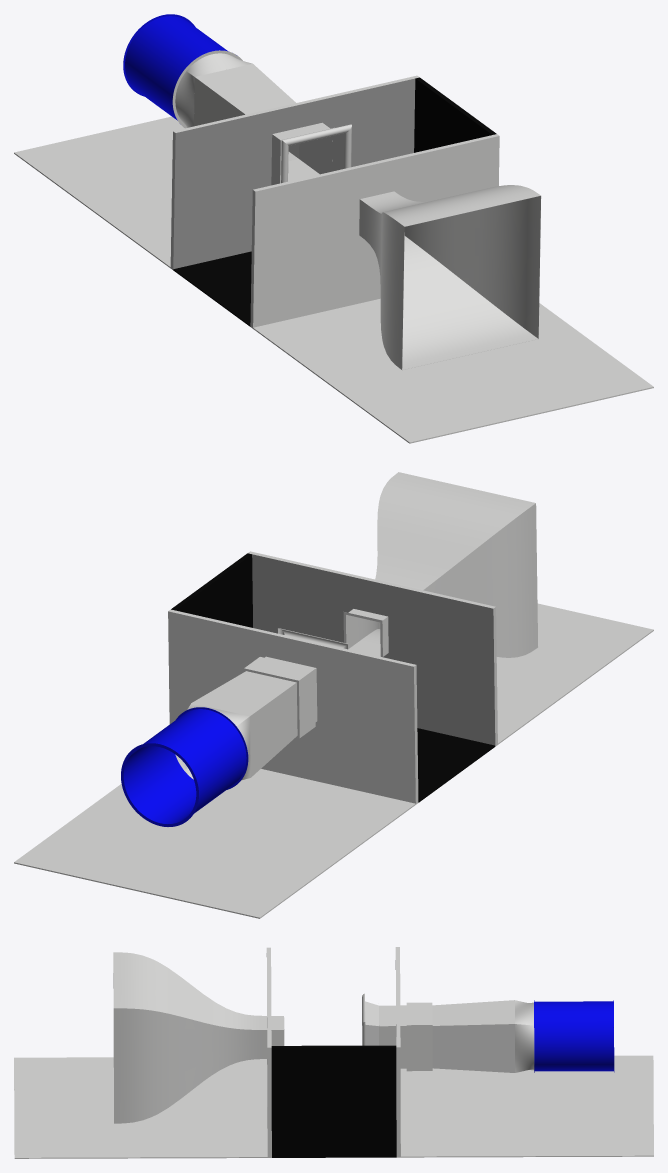
Rendered from WindTunnelCAD.glb.
3 views of the same model, one above another, from view 1: azimuth 30°, elevation 25°; view 2: azimuth 150°, elevation 25°; view 3: azimuth 270°, elevation 25° (orthographic). The views are drawn at different scales.
Parts seen in each view (by area): view 1: Body1, Body2, Body1.001, Body5, Body1.004, Body1.005, Body1.002, Body4, Body1.003; view 2: Body2, Body1, Body1.001, Body1.005, Body5, Body1.004, Body1.003, Body3; view 3: Body2, Body1, Body1.001, Body5, Body1.004, Body1.005, Body1.003, Body1.002, Body4, Body3.
Boxes of the visible parts, x1=… form: Body1: x1=250, y1=134, x2=653, y2=443; Body2: x1=14, y1=75, x2=419, y2=269; Body1.001: x1=359, y1=185, x2=541, y2=370; Body5: x1=173, y1=77, x2=496, y2=326; Body1.004: x1=172, y1=50, x2=299, y2=161; Body1.005: x1=123, y1=14, x2=228, y2=120; Body1.002: x1=280, y1=124, x2=351, y2=183; Body4: x1=271, y1=122, x2=332, y2=185; Body1.003: x1=288, y1=140, x2=315, y2=176; Body2: x1=14, y1=609, x2=418, y2=918; Body1: x1=248, y1=551, x2=653, y2=746; Body1.001: x1=356, y1=472, x2=537, y2=657; Body1.005: x1=121, y1=707, x2=248, y2=826; Body5: x1=171, y1=553, x2=495, y2=802; Body1.004: x1=175, y1=668, x2=299, y2=780; Body1.003: x1=244, y1=657, x2=315, y2=737; Body3: x1=343, y1=609, x2=388, y2=657; Body2: x1=395, y1=947, x2=653, y2=1157; Body1: x1=14, y1=947, x2=271, y2=1158; Body1.001: x1=113, y1=952, x2=267, y2=1123; Body5: x1=271, y1=1045, x2=396, y2=1157; Body1.004: x1=432, y1=1000, x2=534, y2=1072; Body1.005: x1=534, y1=1000, x2=614, y2=1072; Body1.003: x1=406, y1=1002, x2=432, y2=1071; Body1.002: x1=362, y1=993, x2=378, y2=1045; Body4: x1=379, y1=1005, x2=396, y2=1045; Body3: x1=271, y1=1016, x2=284, y2=1045.
Size of the model in its own units: 5.53 by 3.47 by 15.25.
